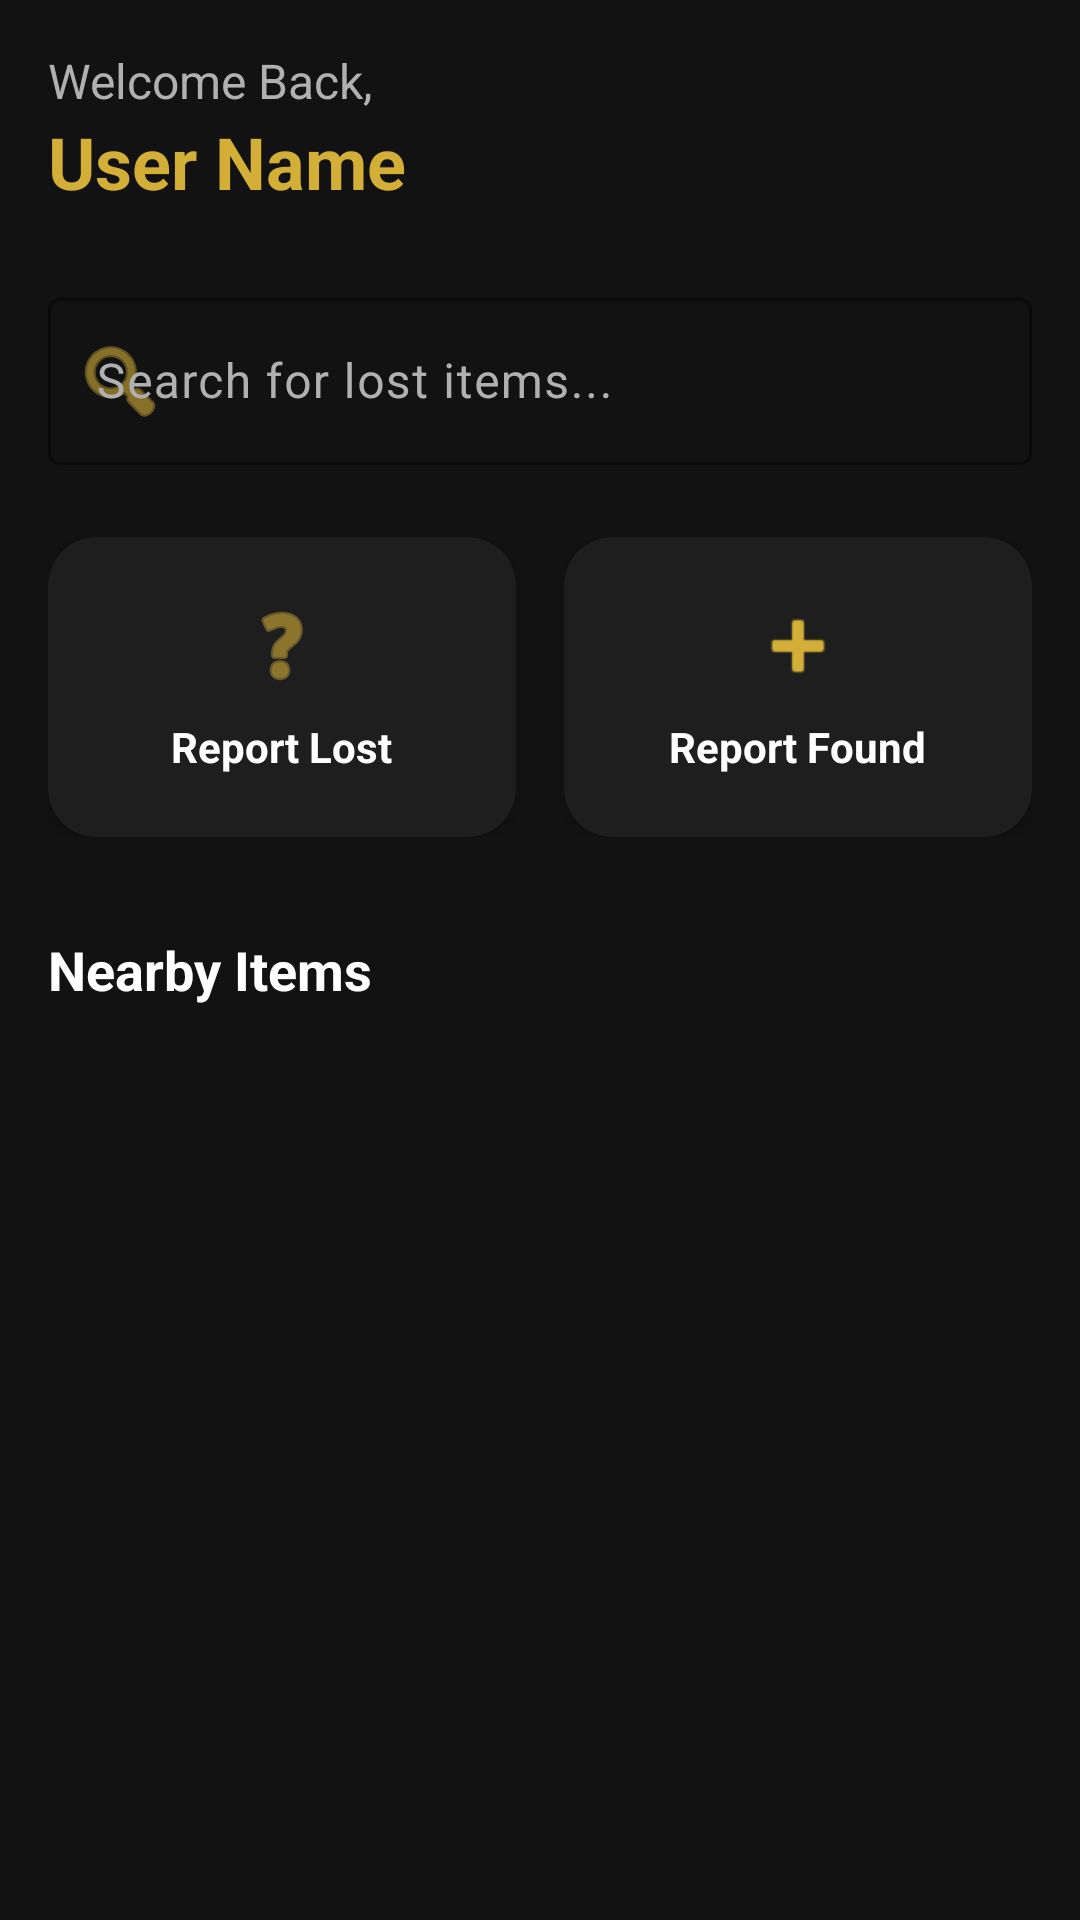

Icon click points for this 1080w x 1920h phone screenshot, format [x,y]:
add: [798,646]
help: [282,646]
